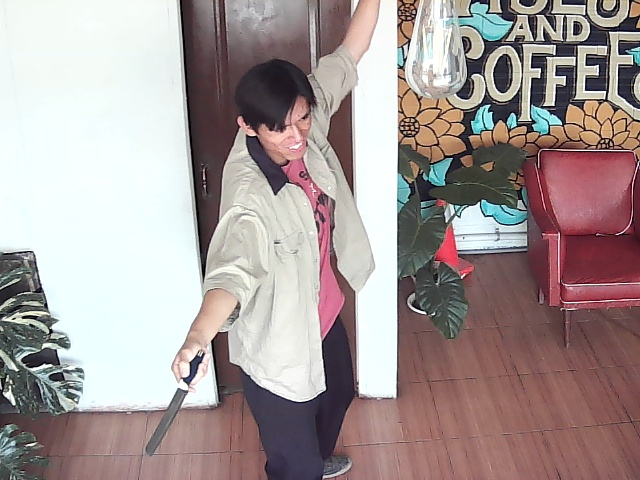cuchillo: (143, 330, 221, 464)
